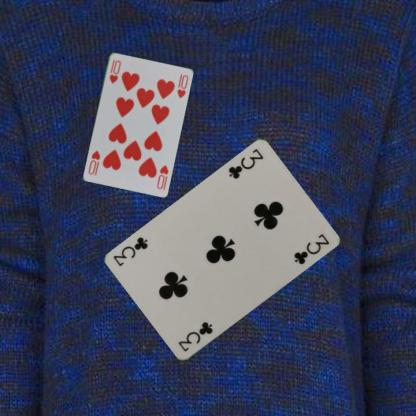10h: (154, 162, 170, 190), (107, 57, 122, 84)
3c: (225, 146, 266, 181), (175, 319, 214, 353)
